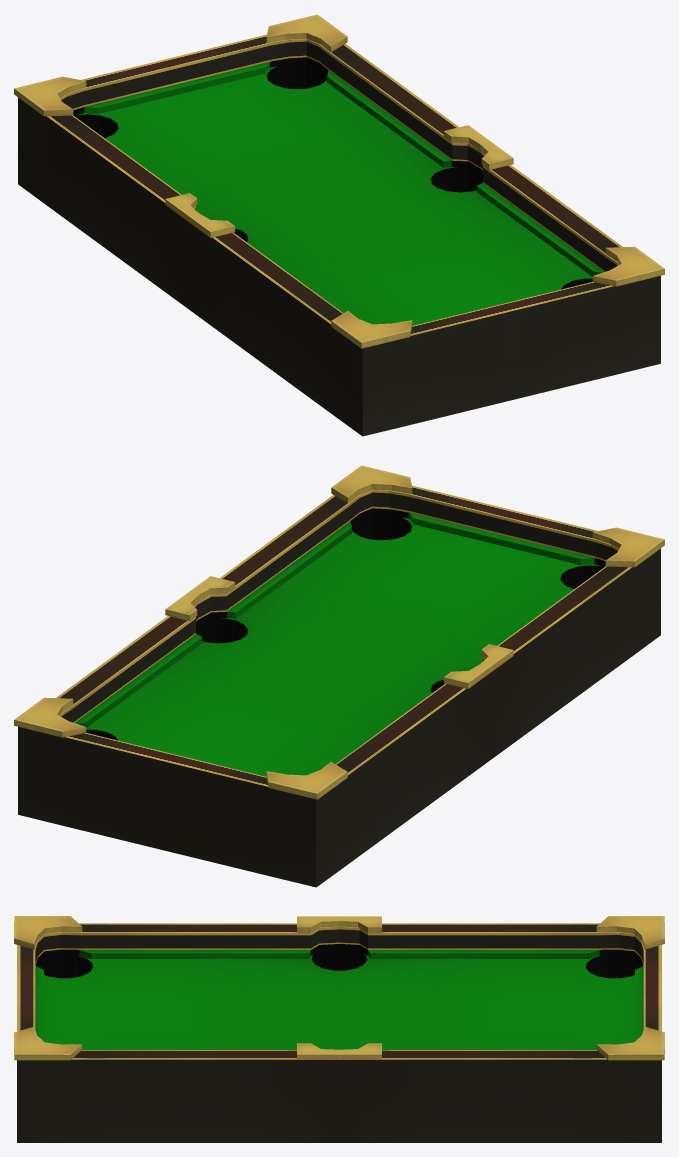
The model's file is desk.FBX.
The picture shows the model from 3 angles, top to bottom: view 1: azimuth 30°, elevation 25°; view 2: azimuth 150°, elevation 25°; view 3: azimuth 270°, elevation 25°; orthographic projection. The views are drawn at different scales.
Visible parts, largest first — view 1: Box001; view 2: Box001; view 3: Box001.
Part boxes in pixels (bbox=[...]): Box001: bbox=[14, 14, 664, 436]; Box001: bbox=[14, 465, 664, 887]; Box001: bbox=[14, 916, 664, 1142].
Size of the model in its own units: 129 by 38.79 by 256.
